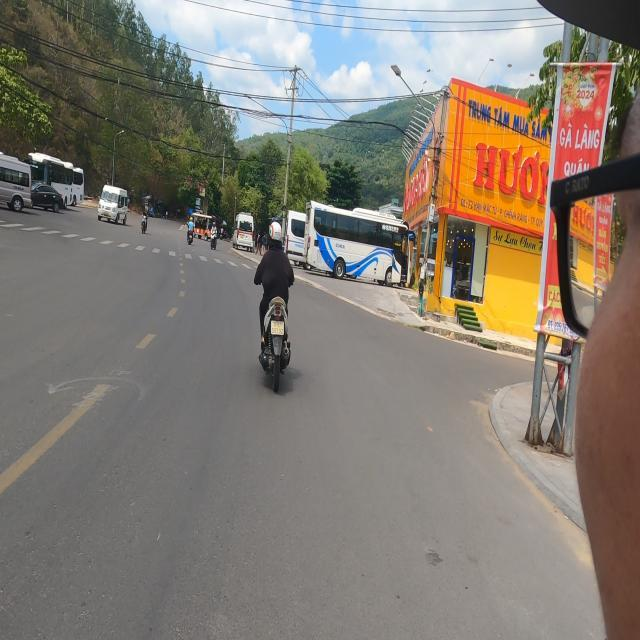walk-crossing: (0, 217, 254, 273)
